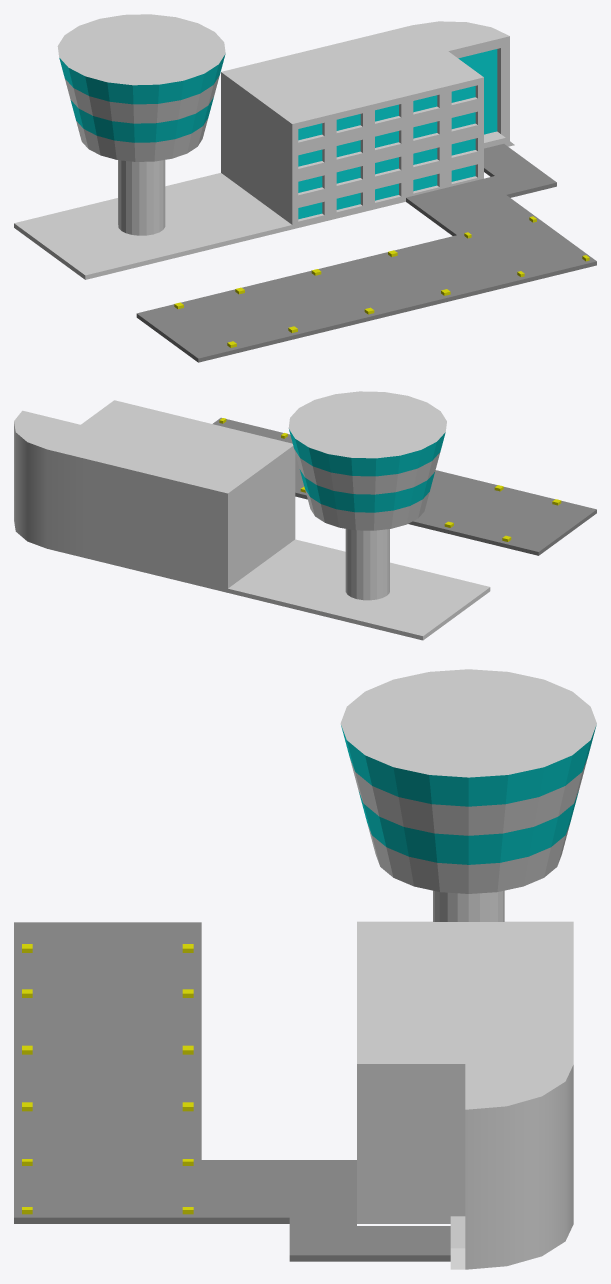
The model's file is airport.fbx.
The picture shows the model from 3 angles, top to bottom: view 1: azimuth 30°, elevation 25°; view 2: azimuth 150°, elevation 25°; view 3: azimuth 270°, elevation 25°; orthographic projection. The views are drawn at different scales.
Parts seen in each view (by area): view 1: building, way, airtower; view 2: building, airtower, way; view 3: way, building, airtower.
Boxes of the visible parts, x1,y1,x2,y2 form: building: [14, 21, 514, 279]; way: [136, 144, 596, 362]; airtower: [57, 14, 225, 235]; building: [14, 400, 490, 640]; airtower: [288, 391, 446, 600]; way: [213, 417, 596, 555]; way: [14, 922, 450, 1261]; building: [357, 921, 573, 1269]; airtower: [340, 669, 596, 921].
Size of the model in its own units: 15.1 by 5.66 by 10.91.
